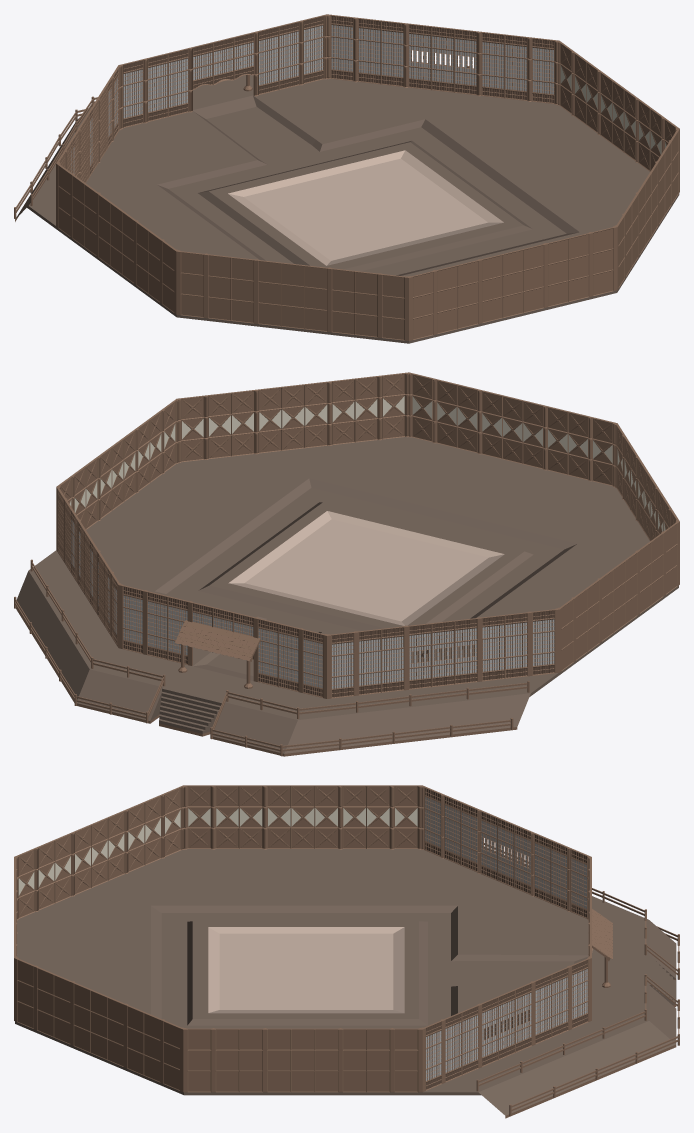
Rendered from Dojo_level_complete.fbx.
3 renders of one model, top to bottom at view 1: azimuth 30°, elevation 25°; view 2: azimuth 150°, elevation 25°; view 3: azimuth 270°, elevation 25°, orthographic.
Parts seen in each view (by area): view 1: Dojo_floor, Dojo_walls, Dojo_fences; view 2: Dojo_floor, Dojo_walls, Dojo_fences, Dojo_entrance; view 3: Dojo_floor, Dojo_walls, Dojo_fences, Dojo_entrance.
Boxes of the visible parts, bbox=[...] form: Dojo_floor: bbox=[15, 75, 679, 343]; Dojo_walls: bbox=[56, 14, 679, 340]; Dojo_fences: bbox=[14, 61, 473, 218]; Dojo_floor: bbox=[16, 437, 678, 756]; Dojo_walls: bbox=[56, 372, 679, 698]; Dojo_fences: bbox=[14, 559, 529, 756]; Dojo_entrance: bbox=[175, 620, 260, 688]; Dojo_floor: bbox=[15, 849, 676, 1118]; Dojo_walls: bbox=[14, 785, 592, 1092]; Dojo_fences: bbox=[476, 843, 679, 1116]; Dojo_entrance: bbox=[592, 909, 612, 987].
Bounding box in the file's own units: 181 × 30.76 × 208.
